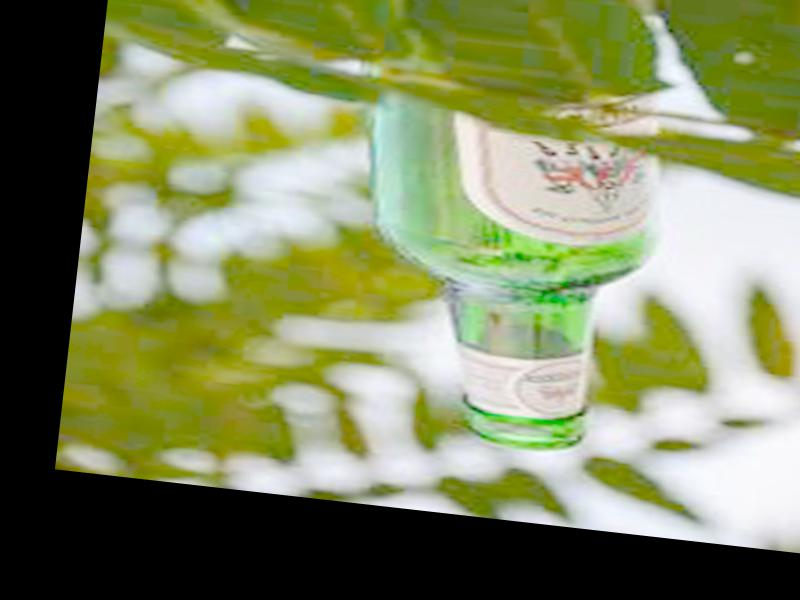Beer: (341, 57, 670, 460)
